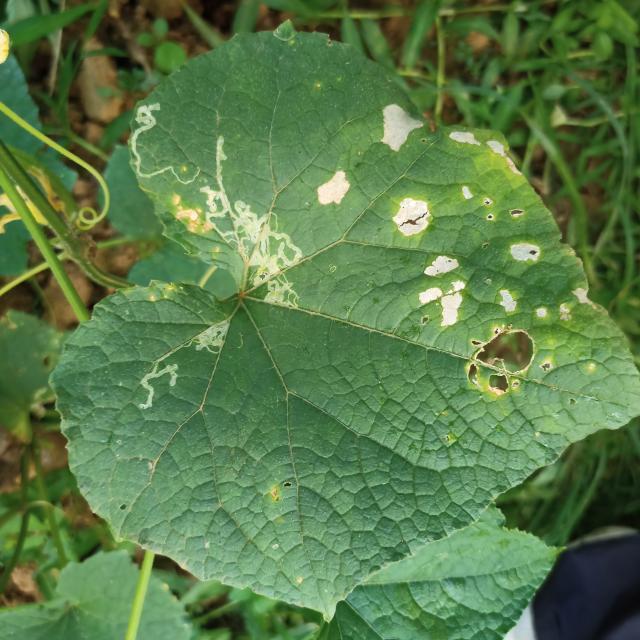disease_cucumber: (375, 99, 595, 375), (313, 165, 353, 218)
